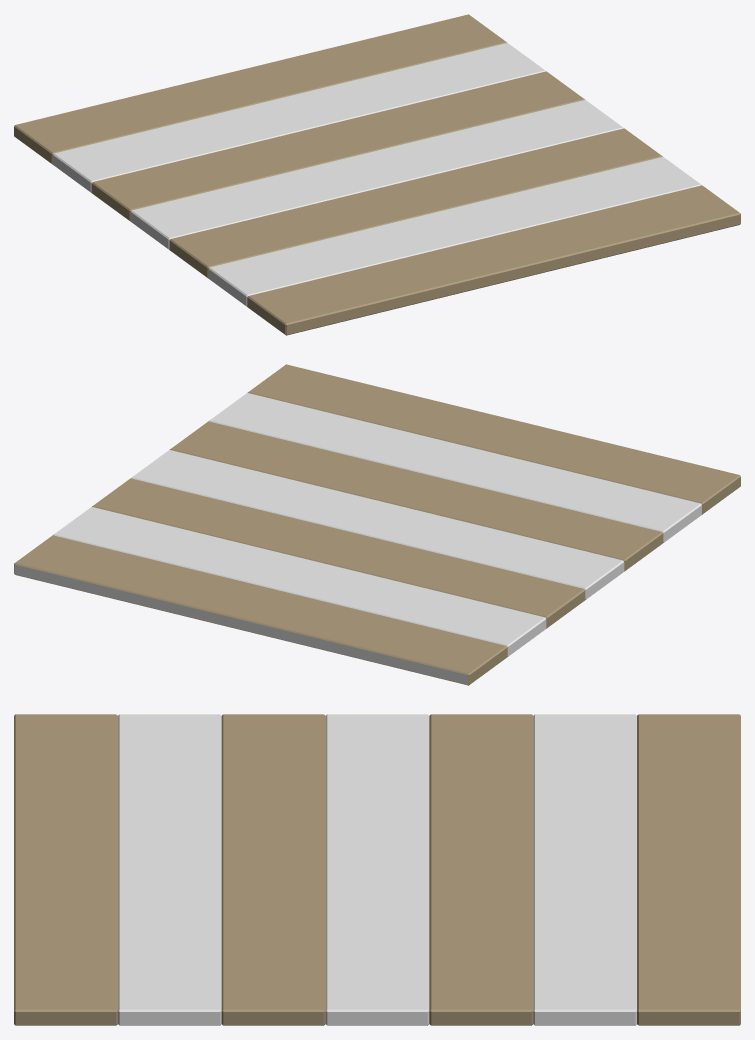
File: Floor1.fbx
3 renders of one model, top to bottom at view 1: azimuth 30°, elevation 25°; view 2: azimuth 150°, elevation 25°; view 3: azimuth 270°, elevation 25°, orthographic. The views are drawn at different scales.
Parts seen in each view (by area): view 1: Floor1; view 2: Floor1; view 3: Floor1.
Boxes of the visible parts, box(x1,y1,x2,y2) form: Floor1: box(14, 14, 740, 335); Floor1: box(14, 364, 740, 685); Floor1: box(14, 714, 740, 1025).
Size of the model in its own units: 200 by 5.1 by 207.
